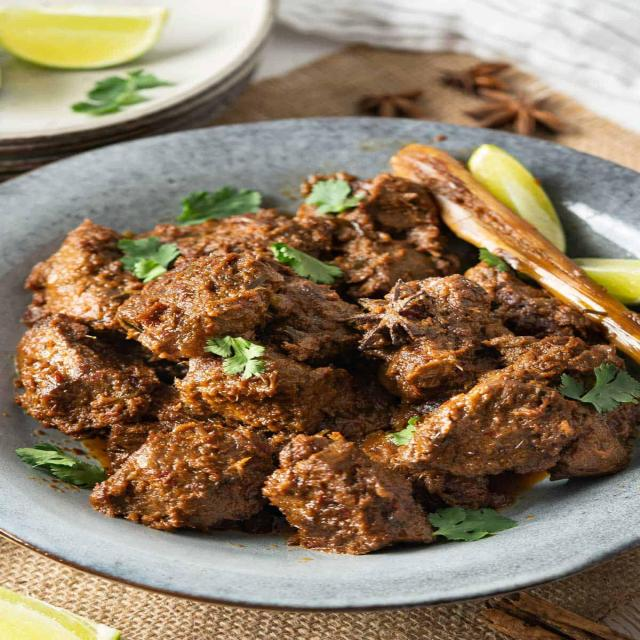Rendang: (14, 156, 640, 587)
